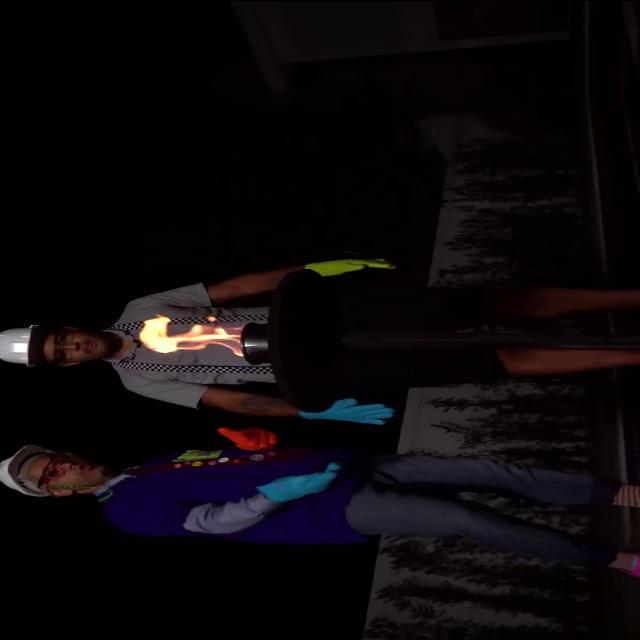Fire: (132, 302, 240, 370)
